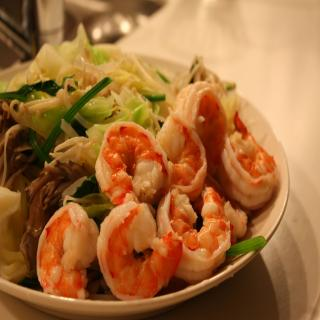Sushi: (36, 207, 102, 306)
